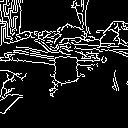cube: (47, 52, 88, 88)
